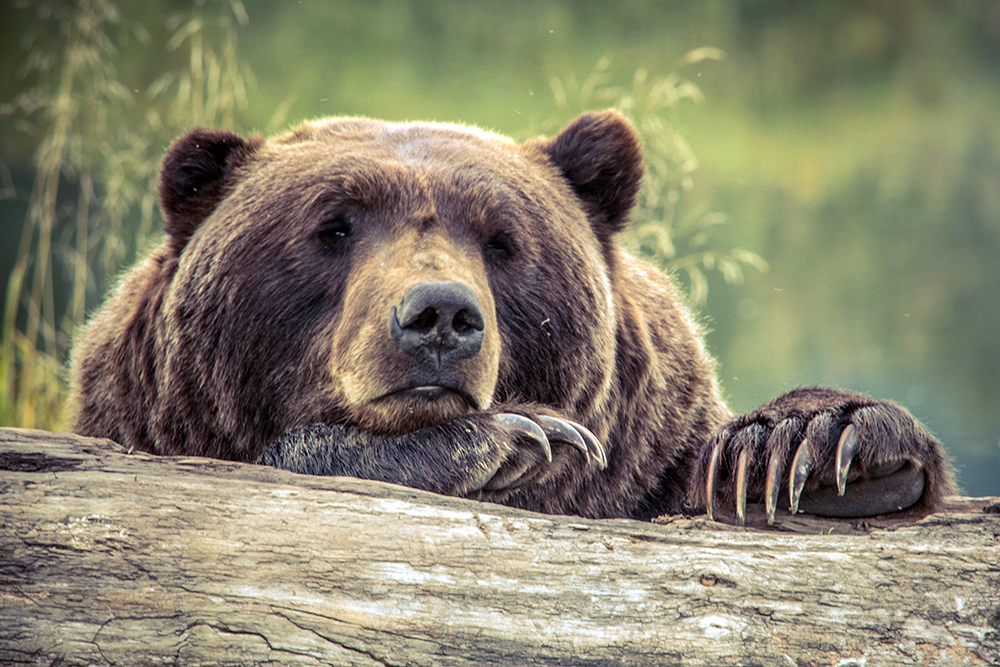bear: (152, 101, 649, 437)
